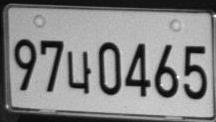0: (97, 41, 122, 96)
4: (124, 42, 151, 97)
5: (183, 45, 207, 100)
6: (153, 44, 179, 99)
7: (39, 39, 64, 92)
9: (13, 38, 37, 90)
나: (66, 50, 92, 93)
